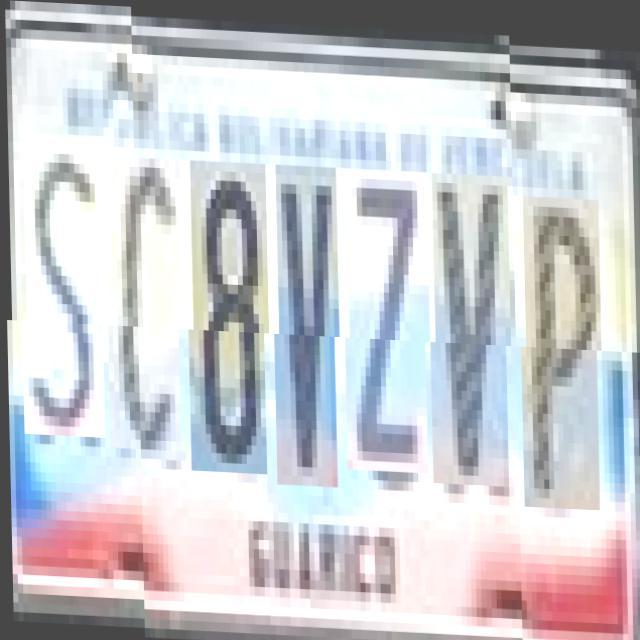8: (190, 158, 270, 472)
C: (109, 154, 184, 458)
P: (522, 181, 603, 495)
S: (22, 142, 108, 446)
V: (431, 168, 512, 482), (275, 162, 341, 484)
Z: (346, 164, 432, 468)
